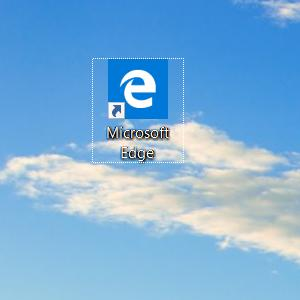edge: (108, 59, 168, 119)
